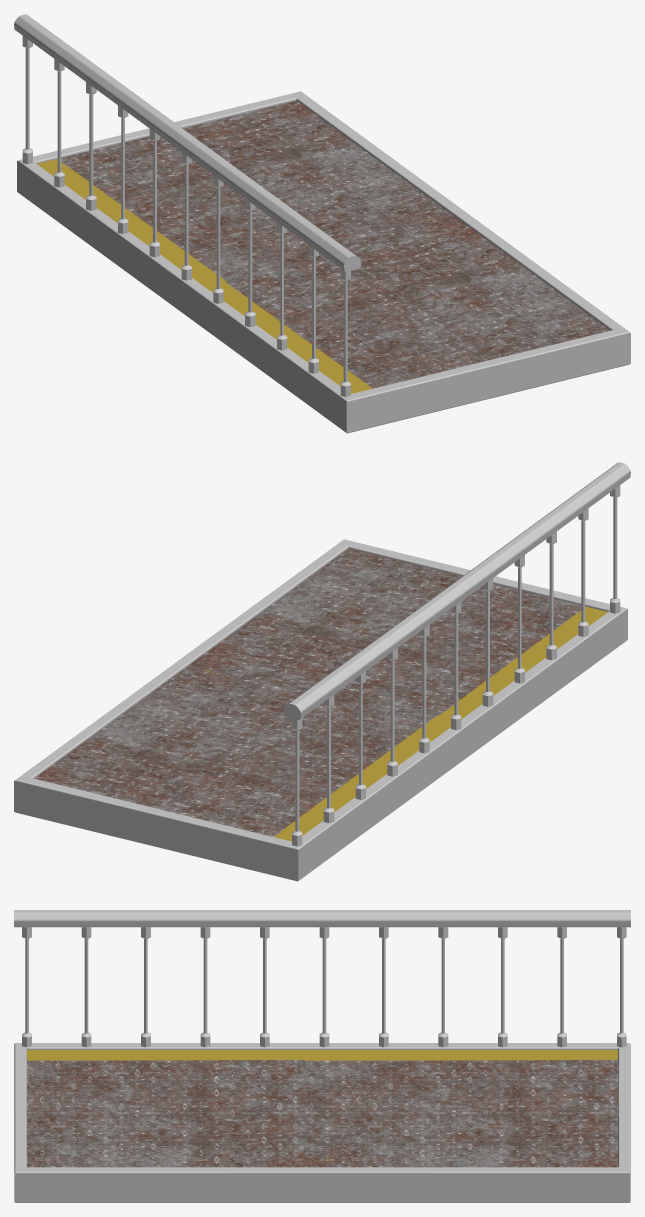
File: msp_floor_scaffolding_modular.fbx
3 renders of one model, top to bottom at view 1: azimuth 30°, elevation 25°; view 2: azimuth 150°, elevation 25°; view 3: azimuth 270°, elevation 25°, orthographic. The views are drawn at different scales.
Visible parts, largest first — view 1: msp_floor_scaffolding_modular; view 2: msp_floor_scaffolding_modular; view 3: msp_floor_scaffolding_modular.
Boxes of the visible parts, x1,y1,x2,y2 form: msp_floor_scaffolding_modular: (14,14,630,433); msp_floor_scaffolding_modular: (14,462,630,881); msp_floor_scaffolding_modular: (14,910,630,1202).
Size of the model in its own units: 2.01 by 1.18 by 4.
